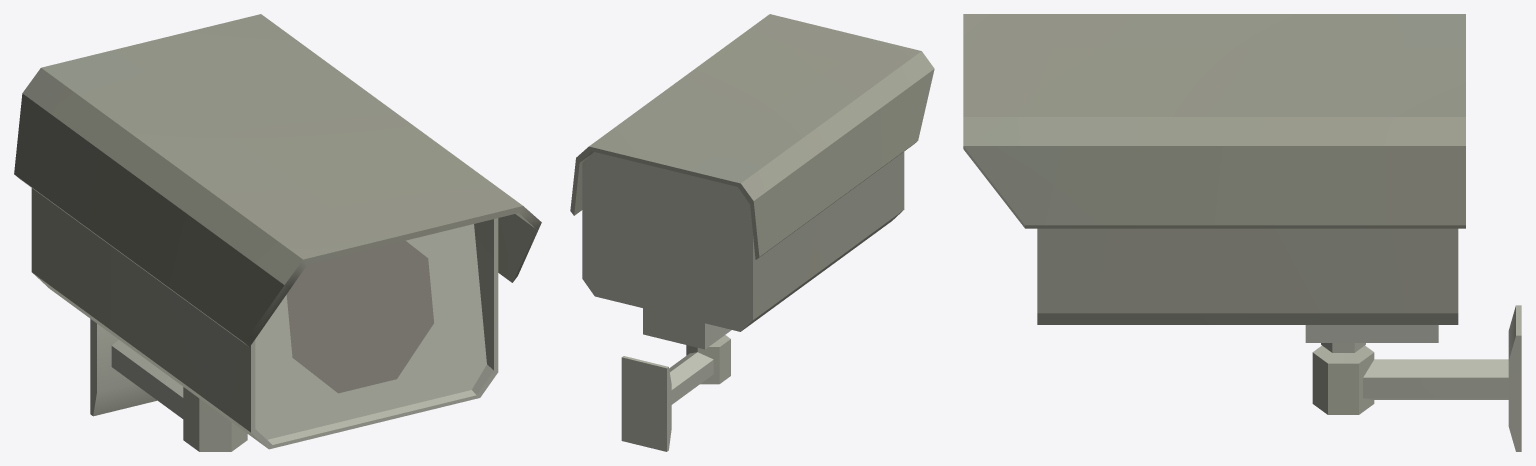
Rendered from secrutiycam.fbx.
3 renders of one model, left to right at view 1: azimuth 30°, elevation 25°; view 2: azimuth 150°, elevation 25°; view 3: azimuth 270°, elevation 25°, orthographic. The views are drawn at different scales.
Parts seen in each view (by area): view 1: polySurface1022; view 2: polySurface1022; view 3: polySurface1022.
Boxes of the visible parts, <box> form: polySurface1022: <box>14,14,541,451</box>; polySurface1022: <box>570,14,934,451</box>; polySurface1022: <box>963,14,1521,451</box>.
Size of the model in its own units: 2.85 by 3.85 by 5.25.
1 material, 1 textured.
